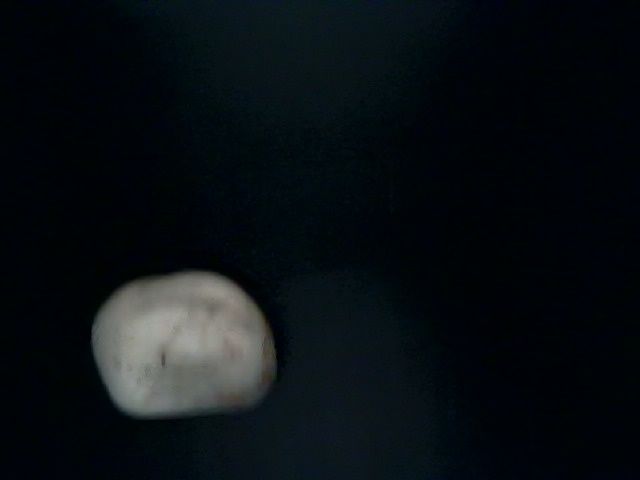QTLJ: (480, 346, 627, 480)
